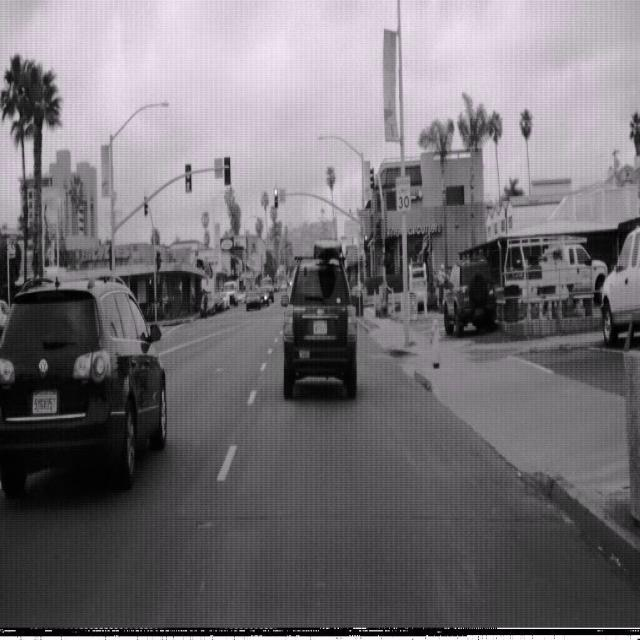speedLimit30: (394, 173, 412, 213)
